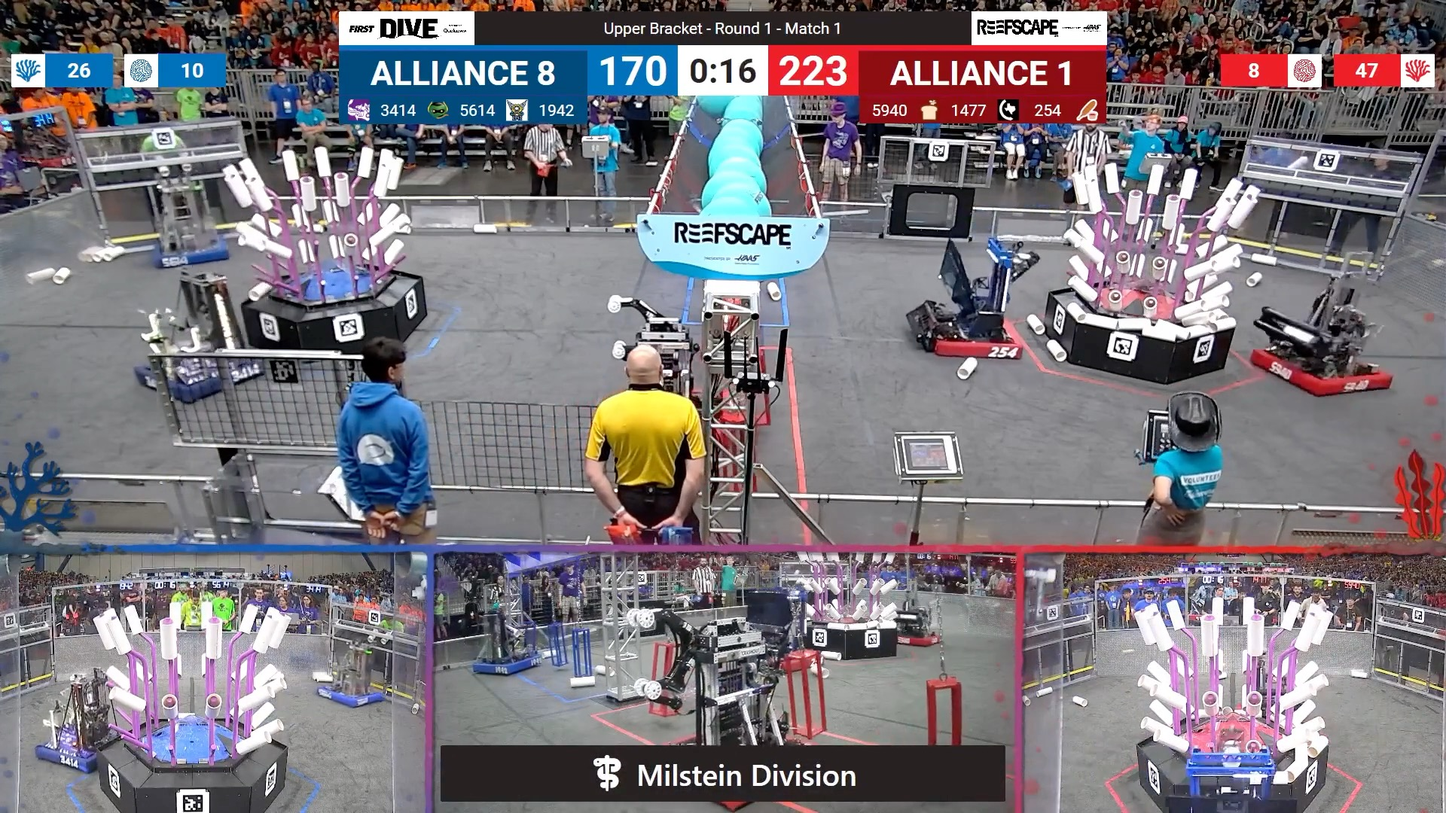bumpers: (1242, 338, 1400, 402), (130, 349, 278, 399), (911, 306, 1032, 366), (32, 728, 125, 775), (146, 239, 236, 273), (310, 681, 389, 712), (471, 653, 546, 680), (887, 625, 940, 649)
